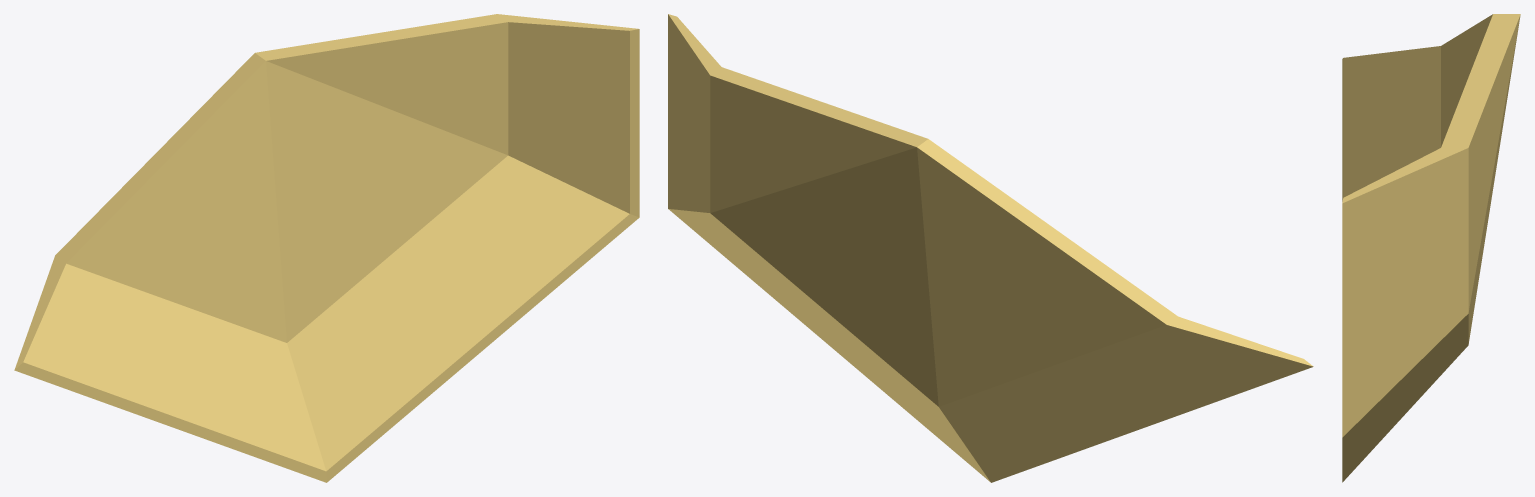
Rendered from Fragment011.fbx.
The picture shows the model from 3 angles, left to right: view 1: azimuth 30°, elevation 25°; view 2: azimuth 150°, elevation 25°; view 3: azimuth 270°, elevation 25°; orthographic projection. The views are drawn at different scales.
Visible parts, largest first — view 1: SatelliteFrag.011; view 2: SatelliteFrag.011; view 3: SatelliteFrag.011.
Part boxes in pixels (x1=…): SatelliteFrag.011: x1=14, y1=14, x2=639, y2=482; SatelliteFrag.011: x1=668, y1=14, x2=1313, y2=482; SatelliteFrag.011: x1=1342, y1=14, x2=1520, y2=482.
Size of the model in its own units: 173 by 99.91 by 34.44.
